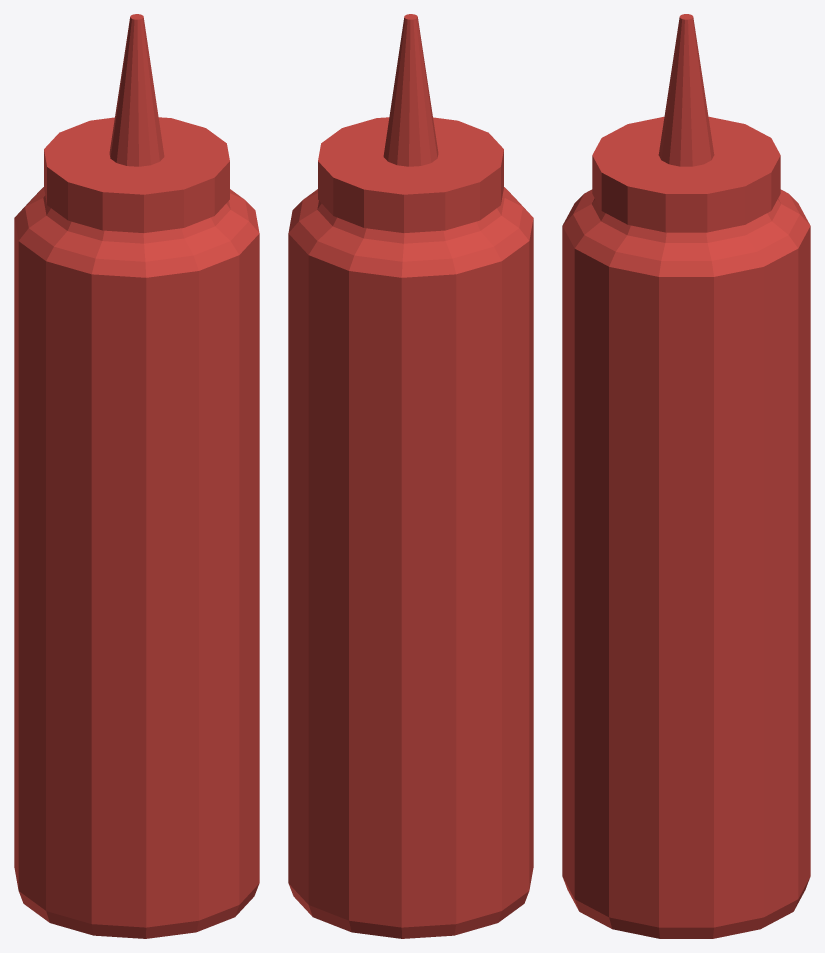
File: Ketchup_01.fbx
3 views of the same model, side by side, from view 1: azimuth 30°, elevation 25°; view 2: azimuth 150°, elevation 25°; view 3: azimuth 270°, elevation 25° (orthographic).
Parts seen in each view (by area): view 1: Ketchup_01; view 2: Ketchup_01; view 3: Ketchup_01.
Boxes of the visible parts, <box> form: Ketchup_01: <box>14,14,259,938</box>; Ketchup_01: <box>288,14,533,938</box>; Ketchup_01: <box>562,14,810,938</box>.
Size of the model in its own units: 9.44 by 37.6 by 9.69.
